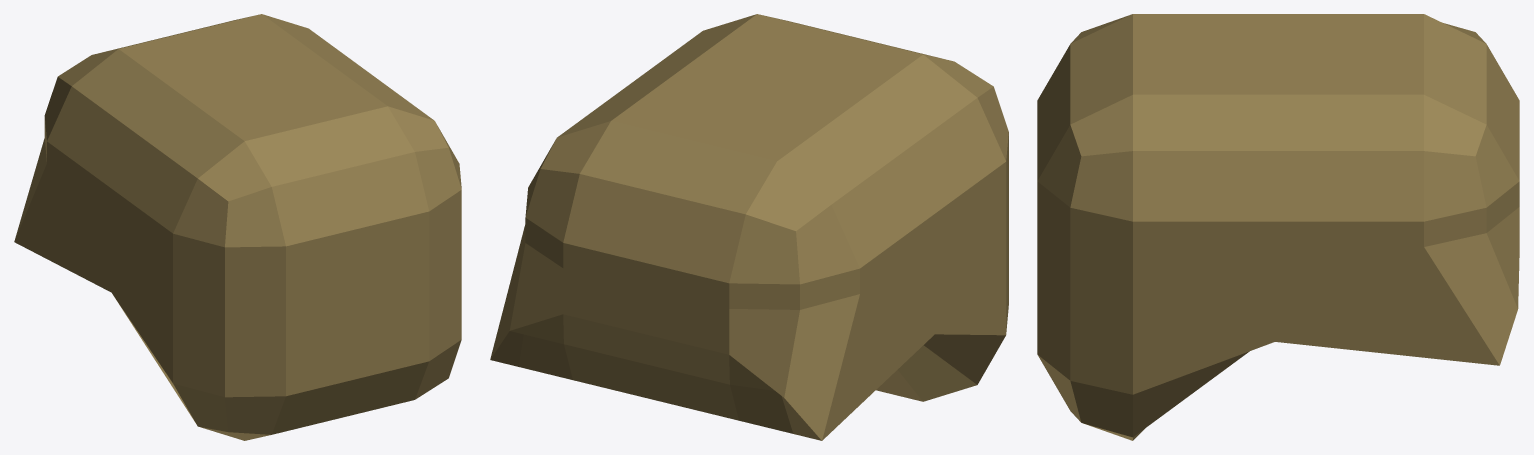
Rendered from coolhair.fbx.
3 renders of one model, left to right at view 1: azimuth 30°, elevation 25°; view 2: azimuth 150°, elevation 25°; view 3: azimuth 270°, elevation 25°, orthographic. The views are drawn at different scales.
Visible parts, largest first — view 1: Cube; view 2: Cube; view 3: Cube.
Boxes of the visible parts, bbox=[...] form: Cube: bbox=[14, 14, 461, 440]; Cube: bbox=[490, 14, 1008, 440]; Cube: bbox=[1037, 14, 1519, 440].
Bounding box in the file's own units: 16.46 × 16.46 × 20.77.
